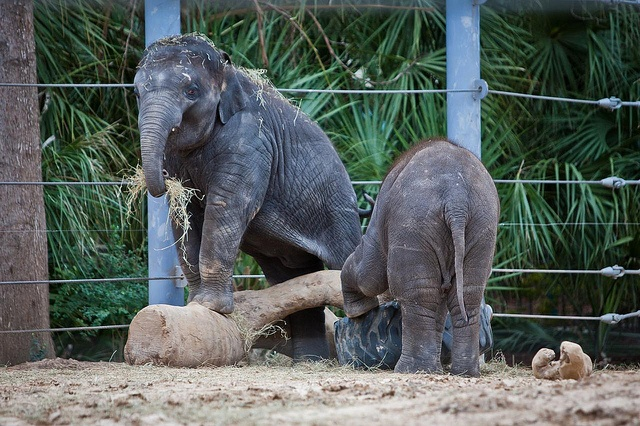elephant: (135, 34, 361, 364), (339, 137, 501, 379)
